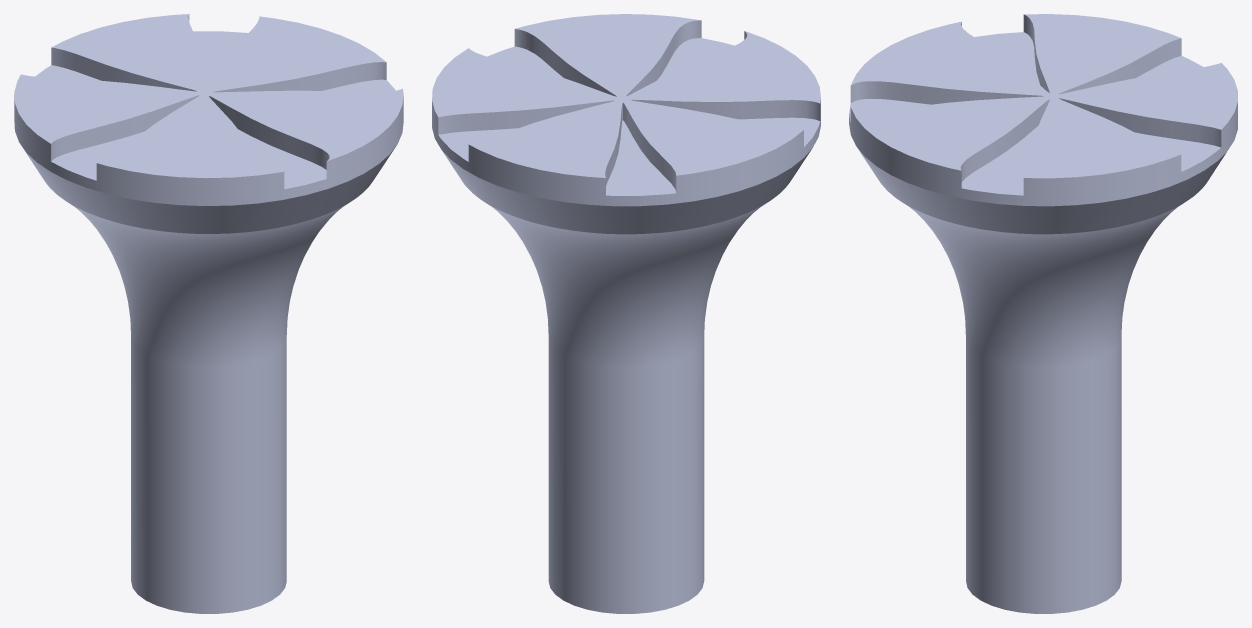
File: CLAMP back support.gltf
3 renders of one model, left to right at view 1: azimuth 30°, elevation 25°; view 2: azimuth 150°, elevation 25°; view 3: azimuth 270°, elevation 25°, orthographic.
Visible parts, largest first — view 1: CLAMP back support; view 2: CLAMP back support; view 3: CLAMP back support.
Part boxes in pixels (<box>): CLAMP back support: <box>14,14,403,613</box>; CLAMP back support: <box>432,14,820,613</box>; CLAMP back support: <box>849,14,1237,613</box>.
Bounding box in the file's own units: 0.016 × 0.022 × 0.016.
